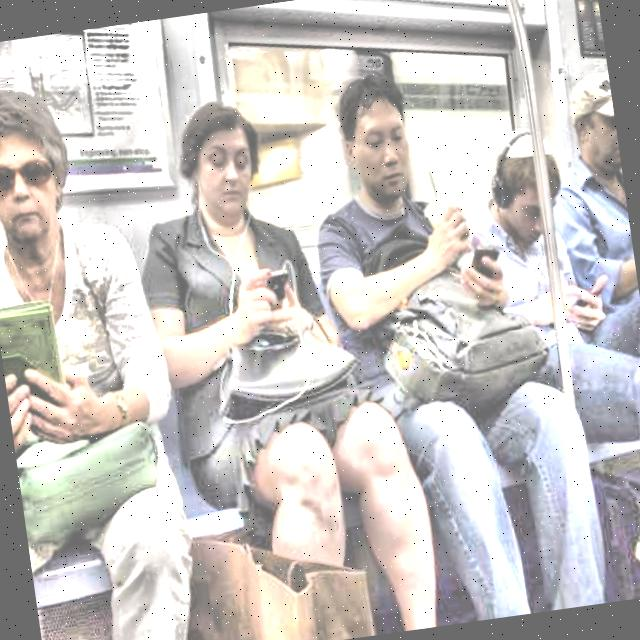neutral: (163, 93, 276, 238), (0, 75, 83, 260), (322, 74, 423, 213), (475, 127, 565, 252), (557, 68, 628, 217)
